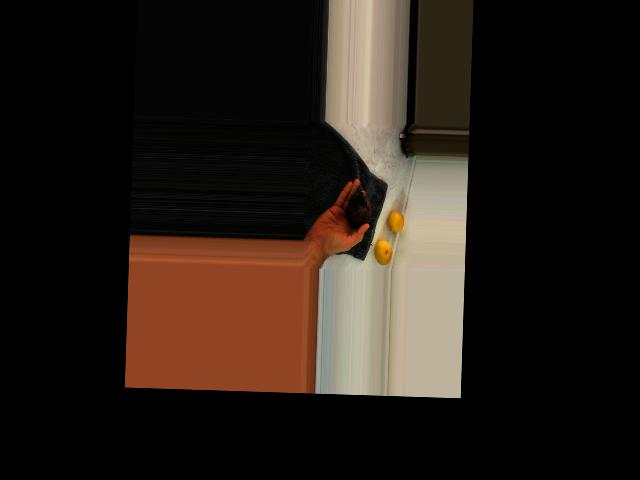beet: (345, 191, 374, 245)
